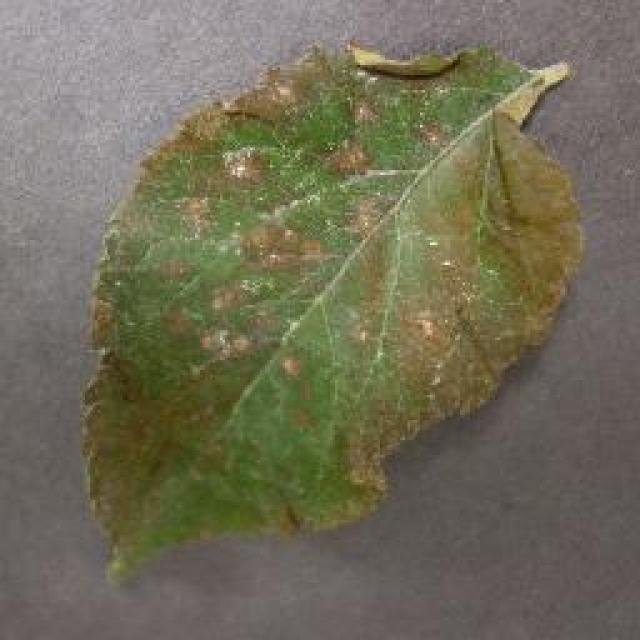apple healthy: (77, 35, 585, 585)
